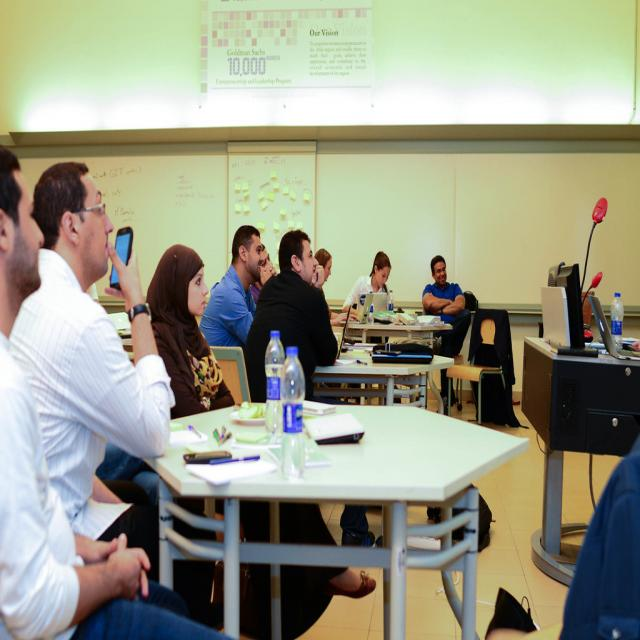chair: (447, 310, 522, 426), (210, 345, 251, 405)
desk: (138, 399, 530, 639)
person: (1, 157, 223, 639), (487, 439, 640, 636), (243, 229, 339, 403), (146, 243, 237, 417), (200, 224, 270, 351), (422, 255, 472, 412), (340, 251, 394, 319), (312, 248, 333, 308)
tv: (541, 260, 586, 350)
